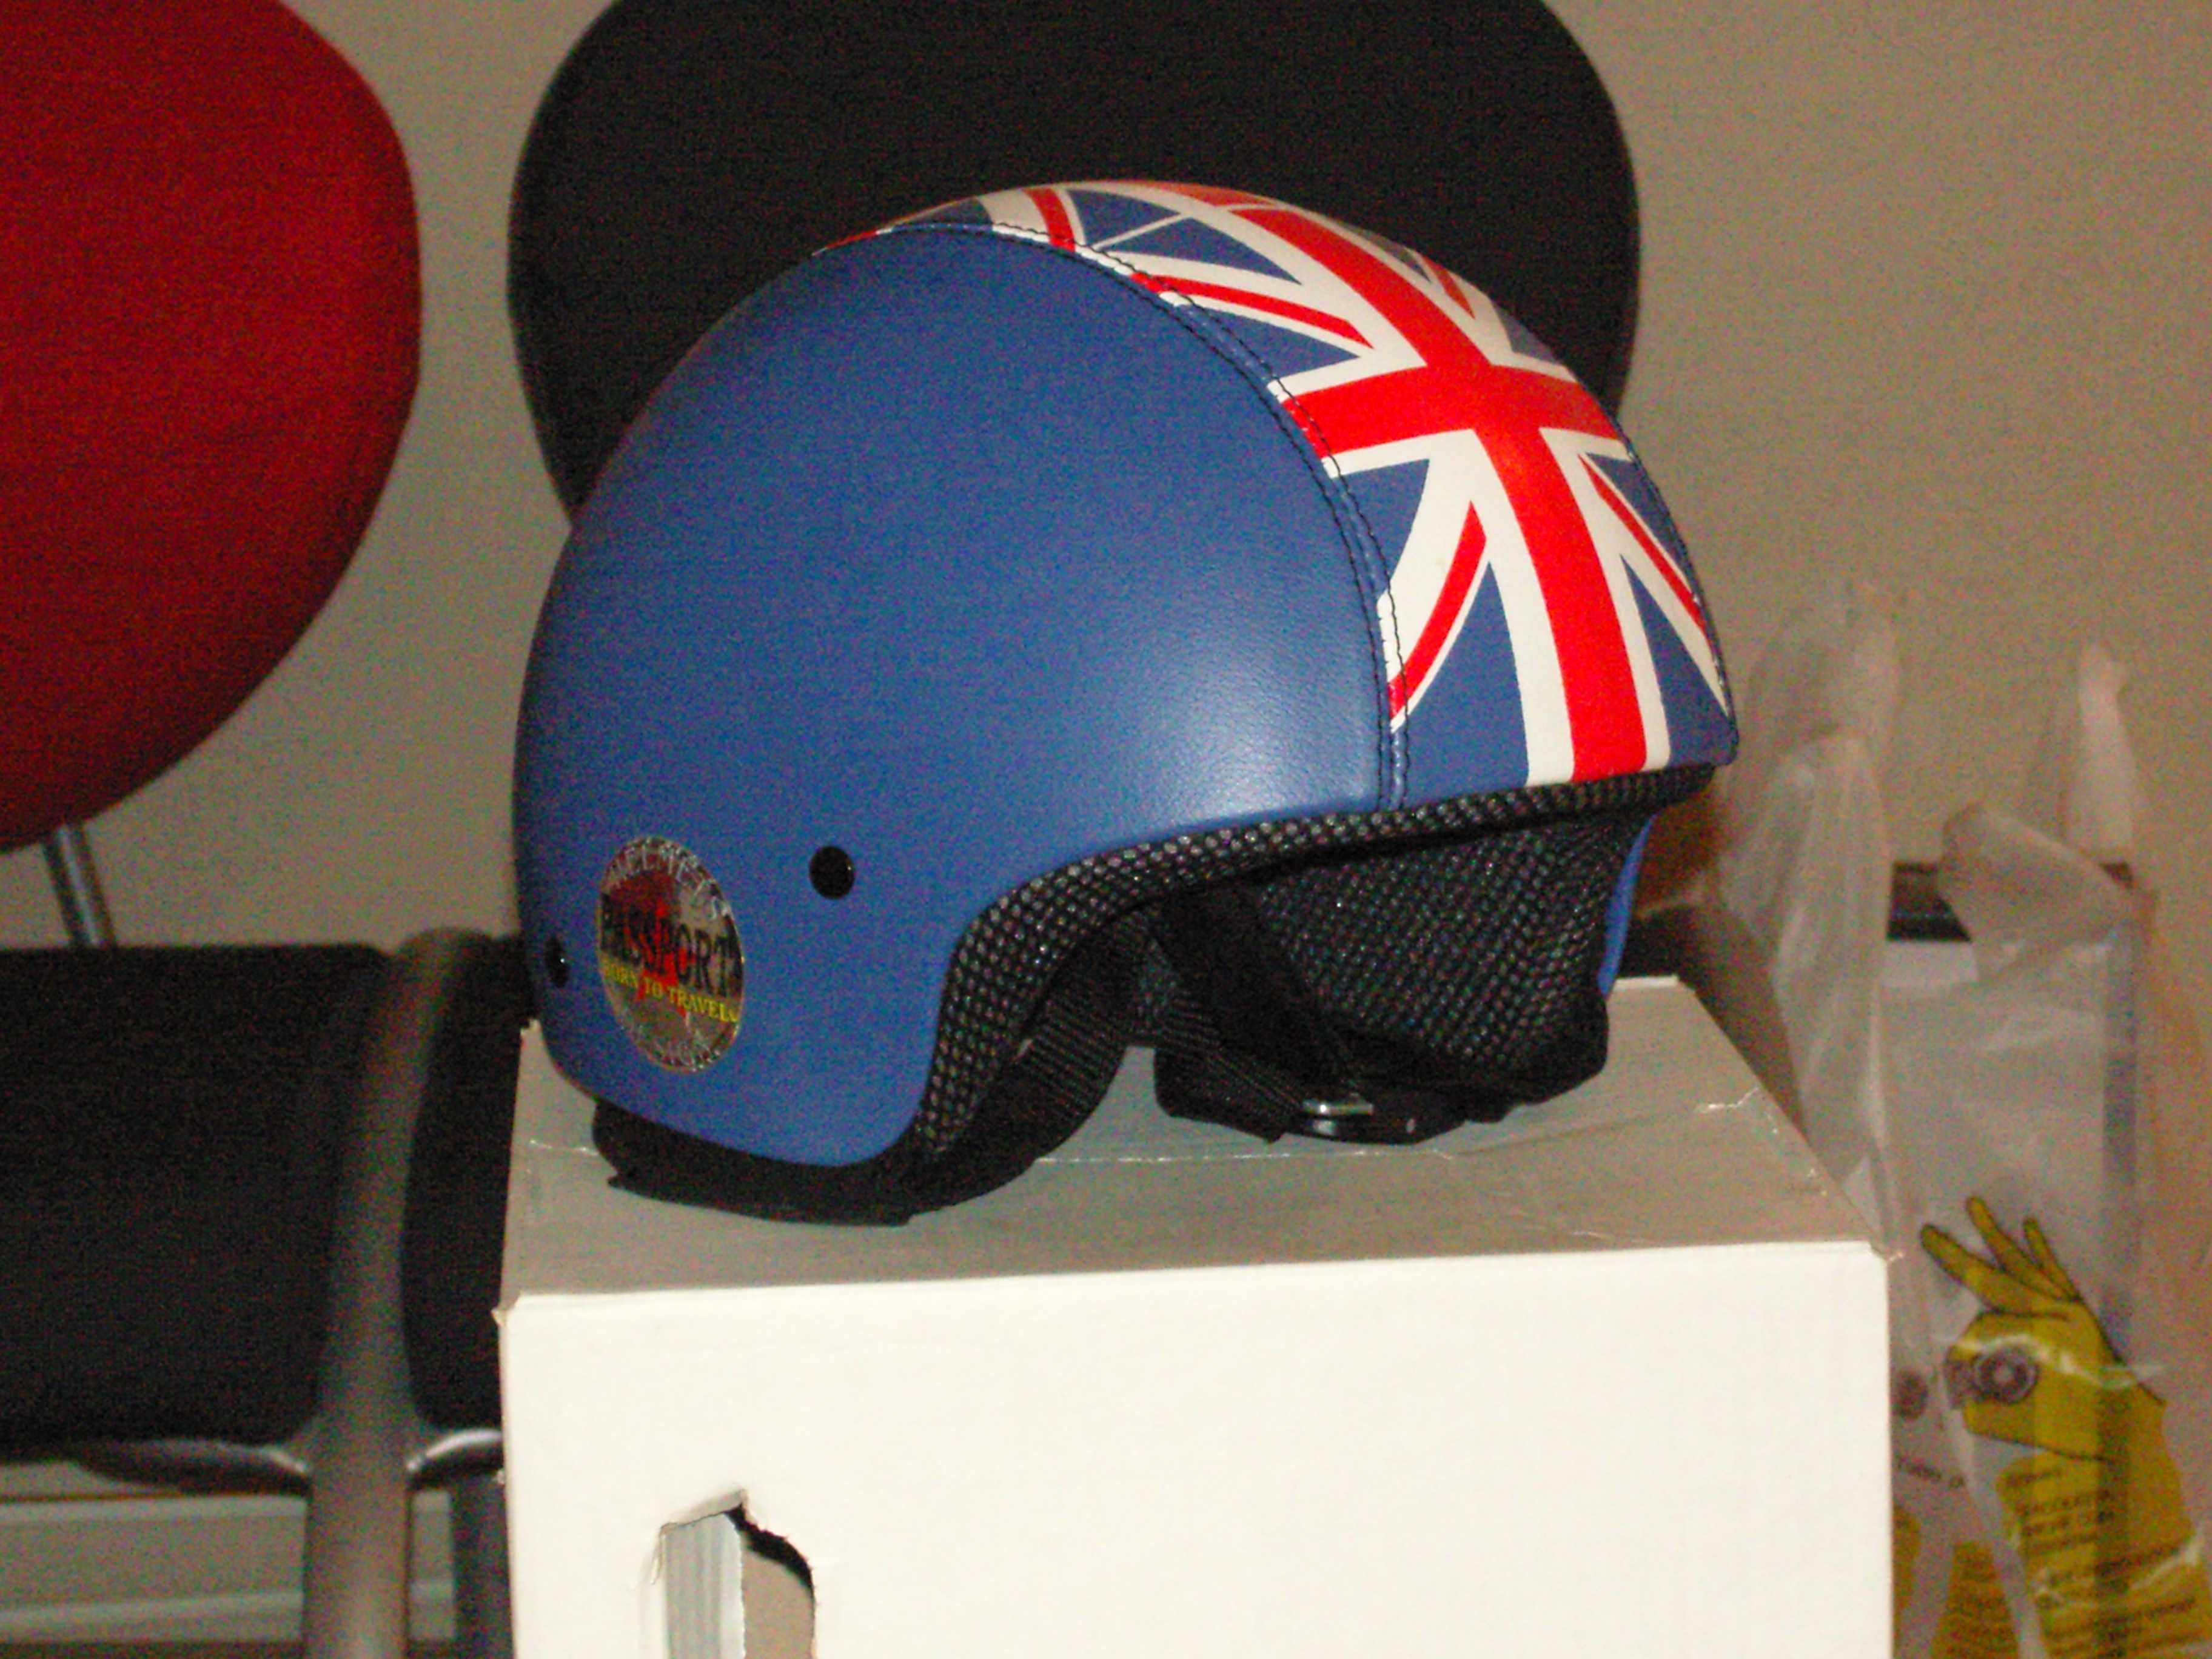helmet: (568, 209, 1773, 1119)
